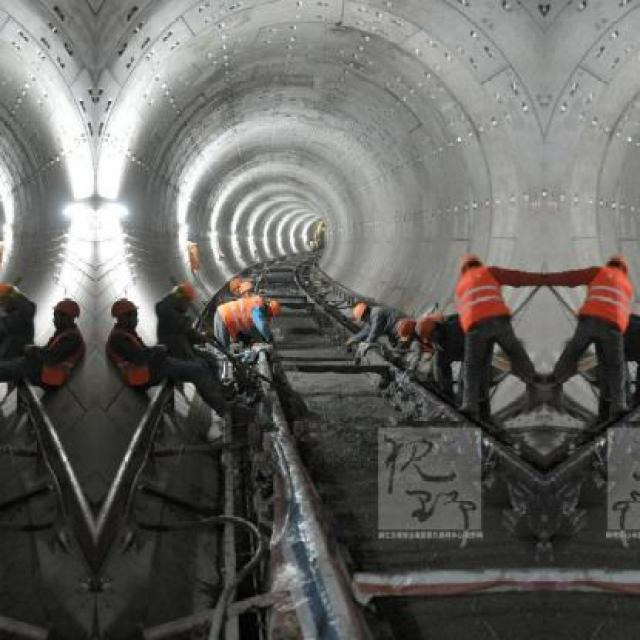helmet: (50, 292, 80, 333), (112, 292, 141, 333), (457, 250, 488, 279), (600, 250, 631, 279), (412, 316, 444, 342), (174, 278, 198, 310), (394, 317, 422, 341), (0, 277, 19, 311), (346, 301, 374, 324), (261, 298, 280, 317), (238, 282, 257, 300), (226, 275, 241, 297)
